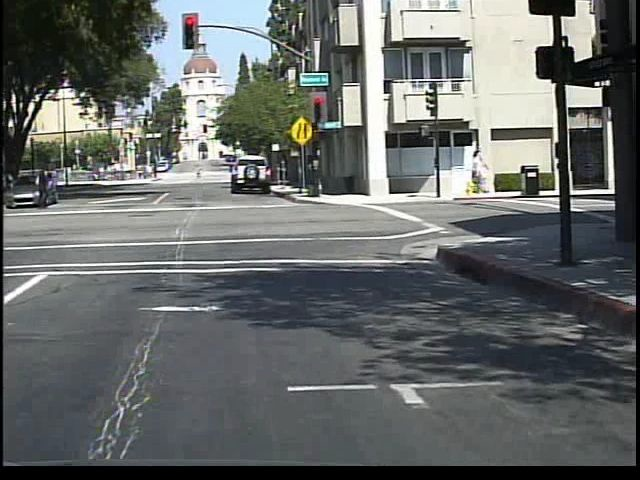person: (7, 168, 33, 221), (35, 165, 59, 209), (196, 164, 207, 181)
